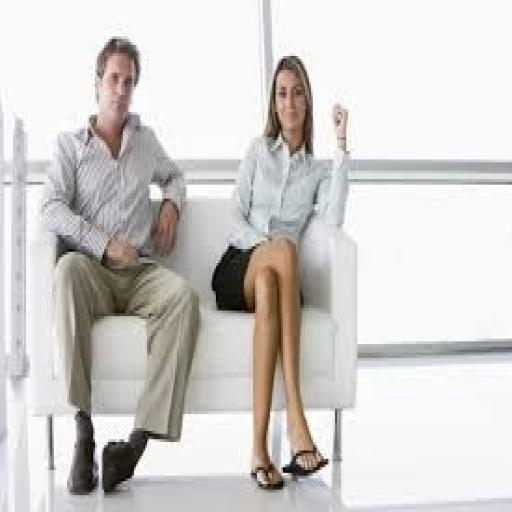sitting: (39, 34, 201, 495), (209, 50, 350, 492)
